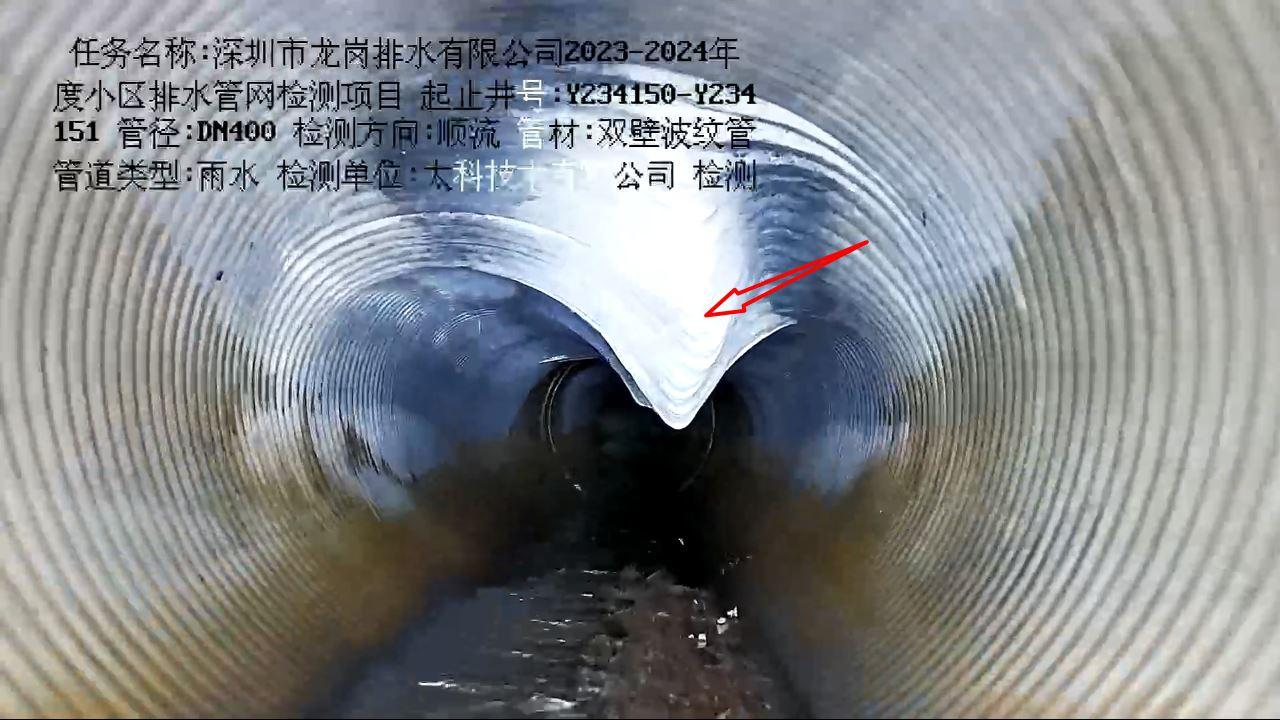BX: (455, 81, 839, 422)
